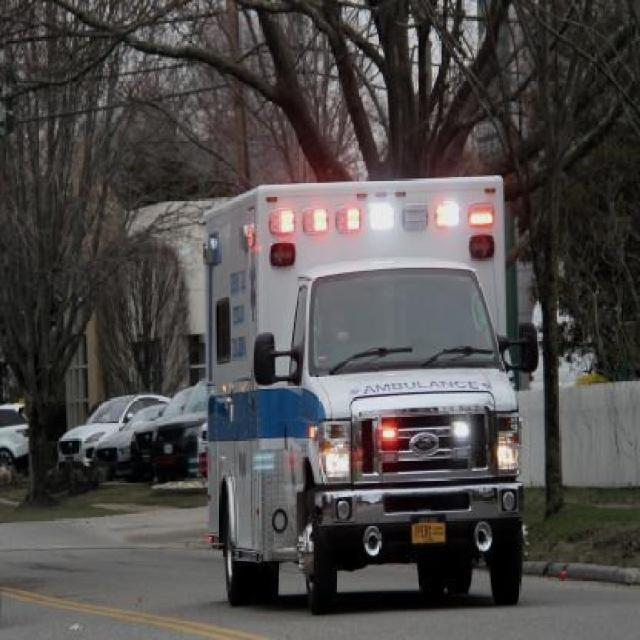emergency: (189, 171, 529, 611)
